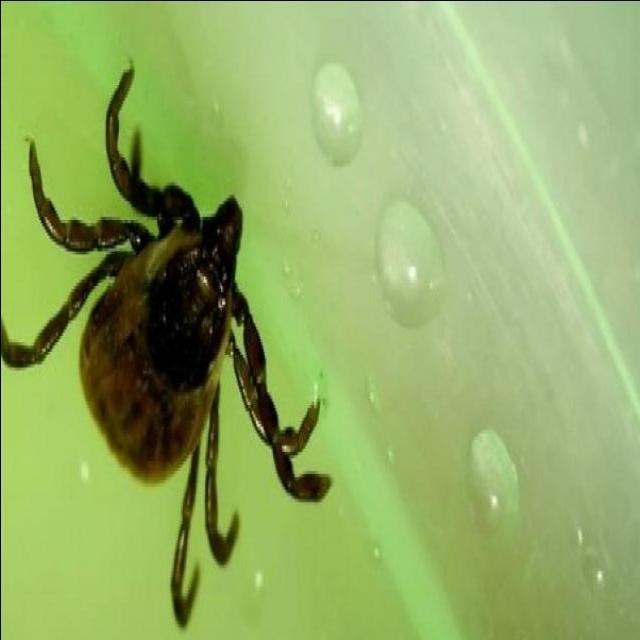Rhipicephalus Sanguineus-F: (0, 62, 332, 630)
